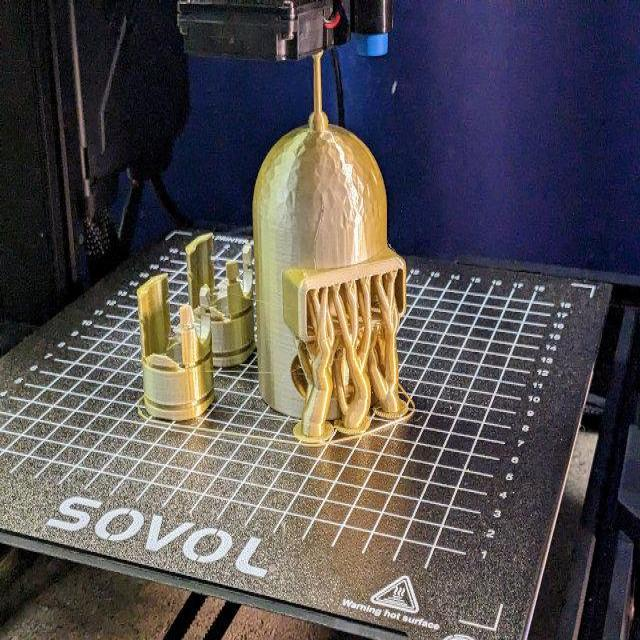Without deffect: (130, 40, 446, 497)
